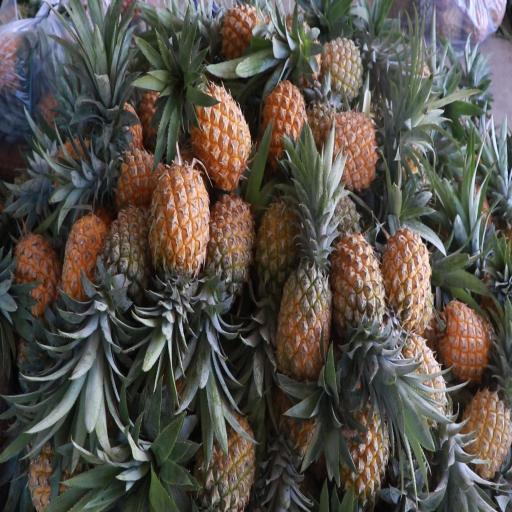------------------------------: (275, 242, 338, 383), (193, 383, 256, 512), (99, 202, 157, 307), (251, 184, 300, 300), (313, 21, 365, 100)
Pineapple - v8 v1: (147, 160, 214, 295), (186, 66, 250, 190), (327, 222, 386, 354), (333, 388, 394, 501), (377, 218, 433, 339), (202, 187, 255, 307), (316, 105, 386, 195), (98, 139, 174, 213), (434, 282, 493, 376), (259, 70, 312, 174), (61, 204, 110, 312), (5, 217, 59, 312), (459, 375, 512, 470)
